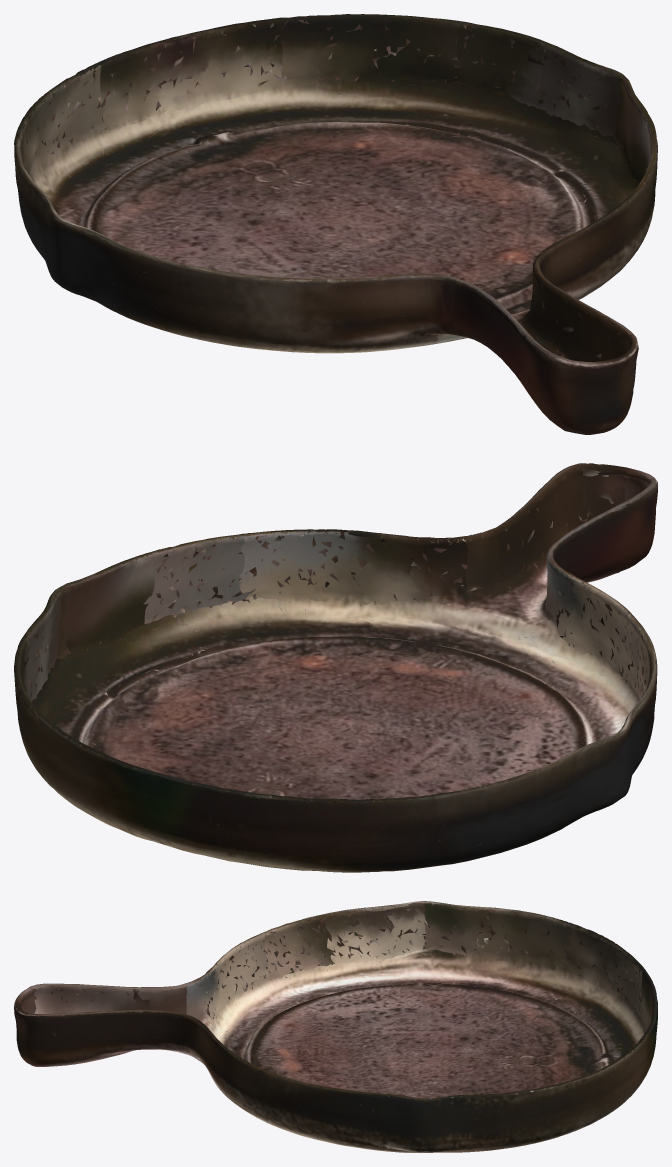
File: pan-lux3d-mobile.glb
The picture shows the model from 3 angles, top to bottom: view 1: azimuth 30°, elevation 25°; view 2: azimuth 150°, elevation 25°; view 3: azimuth 270°, elevation 25°; orthographic projection. The views are drawn at different scales.
Parts seen in each view (by area): view 1: prototype_meters_centered; view 2: prototype_meters_centered; view 3: prototype_meters_centered.
Boxes of the visible parts, x1,y1,x2,y2 form: prototype_meters_centered: (14,14,657,434); prototype_meters_centered: (14,463,657,872); prototype_meters_centered: (14,901,657,1152).
Size of the model in its own units: 0.285 by 0.0468 by 0.3799.
Materials: 1 (1 with a texture image).
